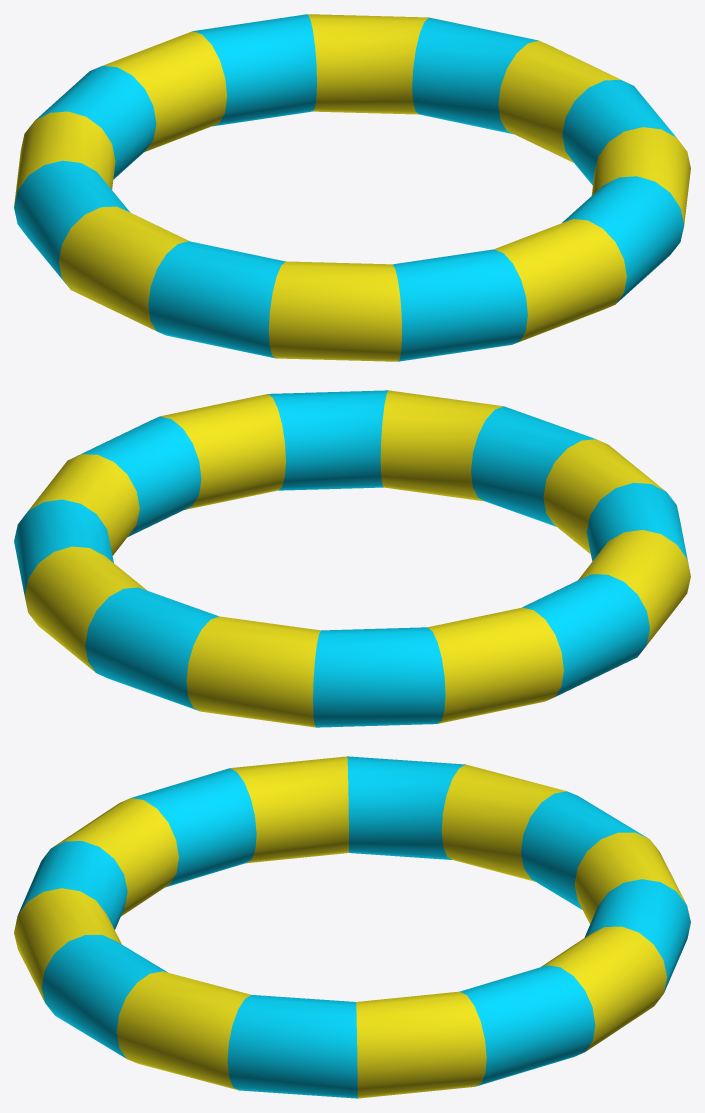
The model's file is ETC0610049.fbx.
The picture shows the model from 3 angles, top to bottom: view 1: azimuth 30°, elevation 25°; view 2: azimuth 150°, elevation 25°; view 3: azimuth 270°, elevation 25°; orthographic projection.
Visible parts, largest first — view 1: smETC0610049; view 2: smETC0610049; view 3: smETC0610049.
Boxes of the visible parts, left/top/right/bottom form: smETC0610049: left=14, top=14, right=690, bottom=361; smETC0610049: left=14, top=390, right=690, bottom=727; smETC0610049: left=14, top=756, right=690, bottom=1098.
Size of the model in its own units: 120 by 18.25 by 120.
Materials: 1 (1 with a texture image).
